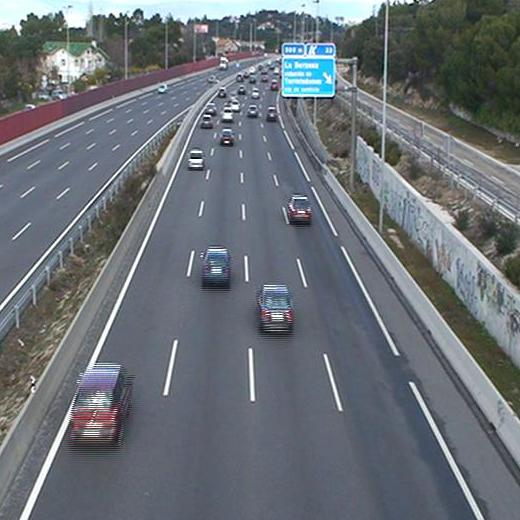car: (68, 365, 133, 441), (255, 283, 295, 329), (200, 246, 233, 282), (286, 195, 314, 220), (187, 149, 204, 166), (219, 129, 235, 145), (199, 113, 213, 129), (221, 106, 233, 120), (267, 106, 279, 119), (247, 105, 259, 116)
